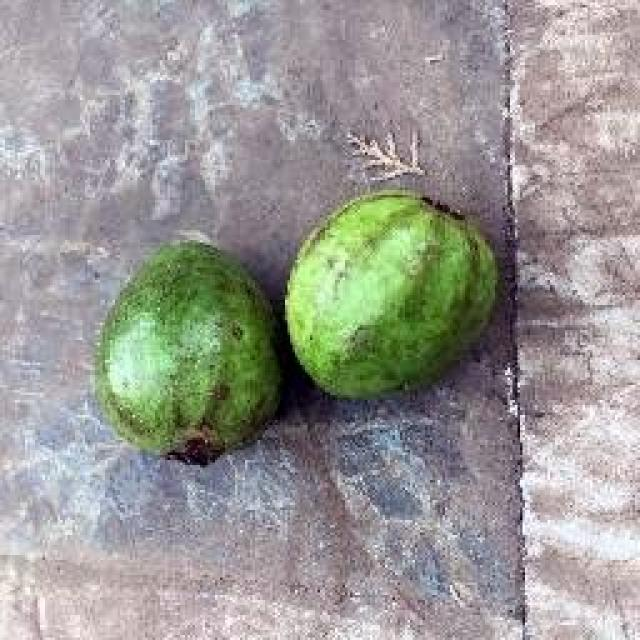Good_Guava: (288, 190, 500, 400)
